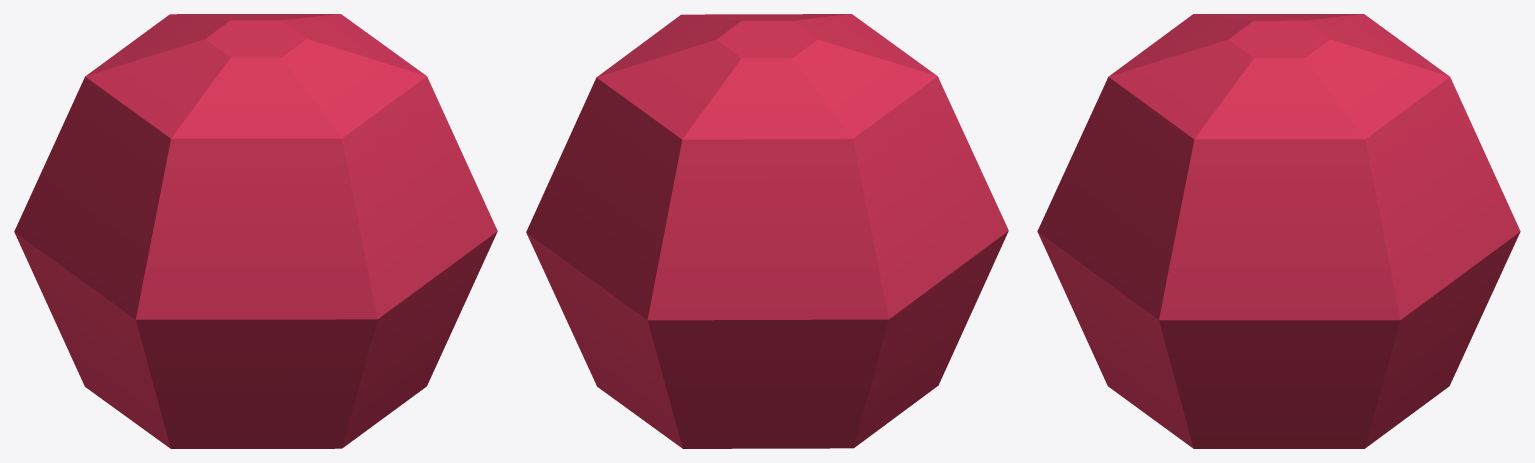
File: Raspberry Piece.fbx
3 views of the same model, side by side, from view 1: azimuth 30°, elevation 25°; view 2: azimuth 150°, elevation 25°; view 3: azimuth 270°, elevation 25° (orthographic).
Parts seen in each view (by area): view 1: Raspberry Piece; view 2: Raspberry Piece; view 3: Raspberry Piece.
Boxes of the visible parts, <box> form: Raspberry Piece: <box>14,14,497,448</box>; Raspberry Piece: <box>526,14,1008,448</box>; Raspberry Piece: <box>1037,14,1520,448</box>.
Size of the model in its own units: 4.43 by 4.44 by 5.11.
